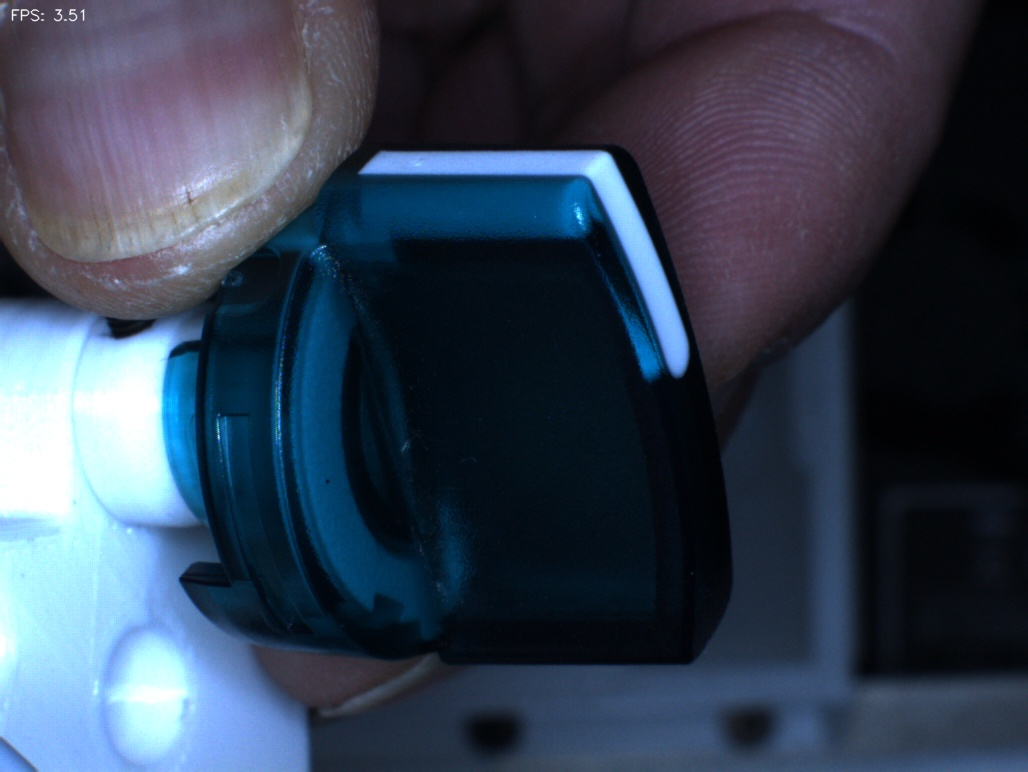PointNoir: (302, 446, 361, 515)
